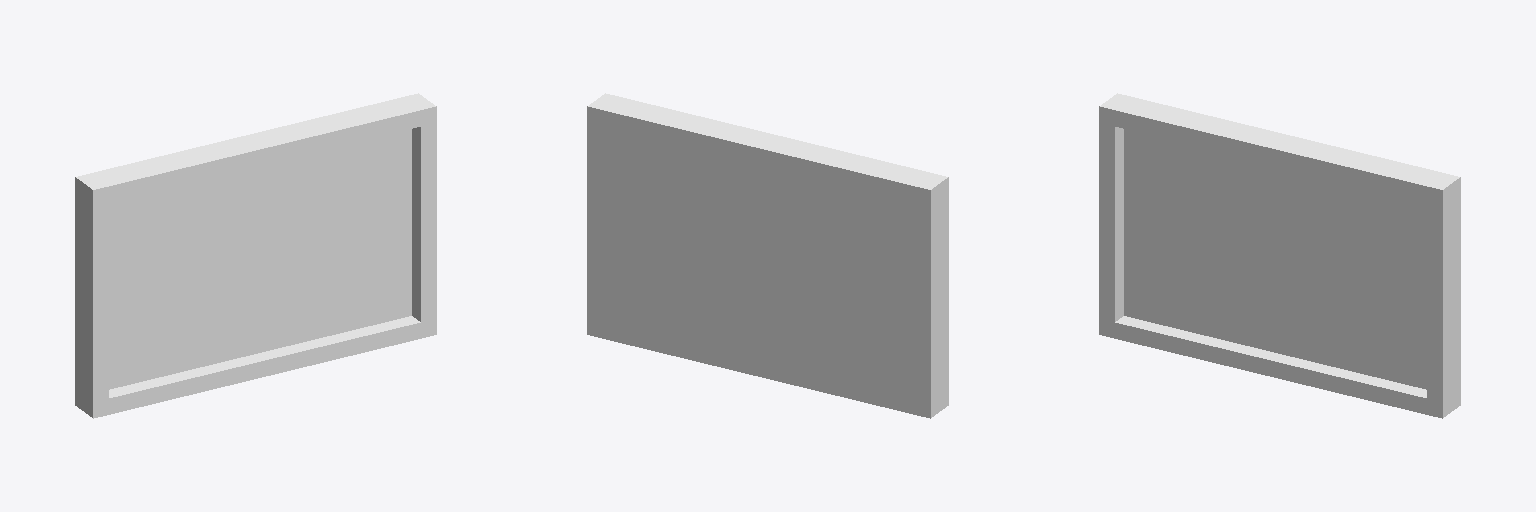
File: quadro1.obj
The picture shows the model from 3 angles: view 1: azimuth 30°, elevation 25°; view 2: azimuth 150°, elevation 25°; view 3: azimuth 330°, elevation 25°; orthographic projection.
Visible parts, largest first — view 1: quadro1; view 2: quadro1; view 3: quadro1.
Boxes of the visible parts, x1=… form: quadro1: x1=75, y1=93, x2=436, y2=418; quadro1: x1=587, y1=93, x2=948, y2=418; quadro1: x1=1099, y1=93, x2=1460, y2=418.
Bounding box in the file's own units: 22 × 14 × 2.